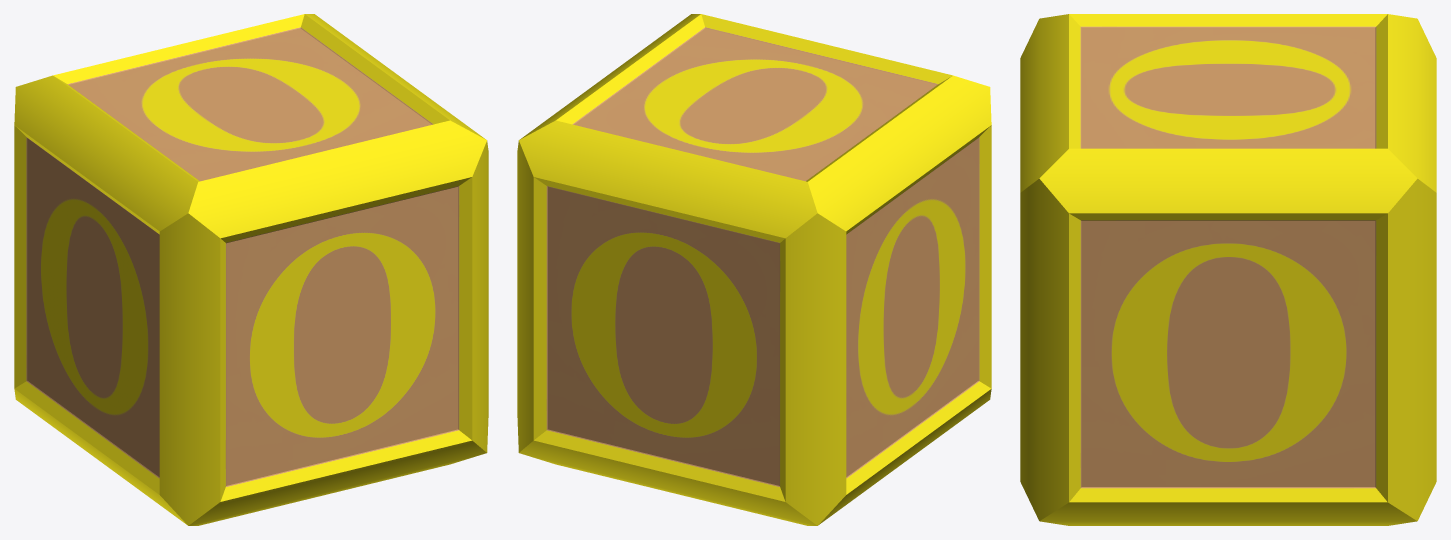
The picture shows the model from 3 angles, left to right: view 1: azimuth 30°, elevation 25°; view 2: azimuth 150°, elevation 25°; view 3: azimuth 270°, elevation 25°; orthographic projection. The views are drawn at different scales.
Parts seen in each view (by area): view 1: pCube1; view 2: pCube1; view 3: pCube1.
Part boxes in pixels (left/top/right/bottom): pCube1: left=14, top=14, right=488, bottom=525; pCube1: left=517, top=14, right=991, bottom=525; pCube1: left=1020, top=14, right=1436, bottom=525.
Bounding box in the file's own units: 0.4114 × 0.4114 × 0.4114.
1 material, 1 textured.
